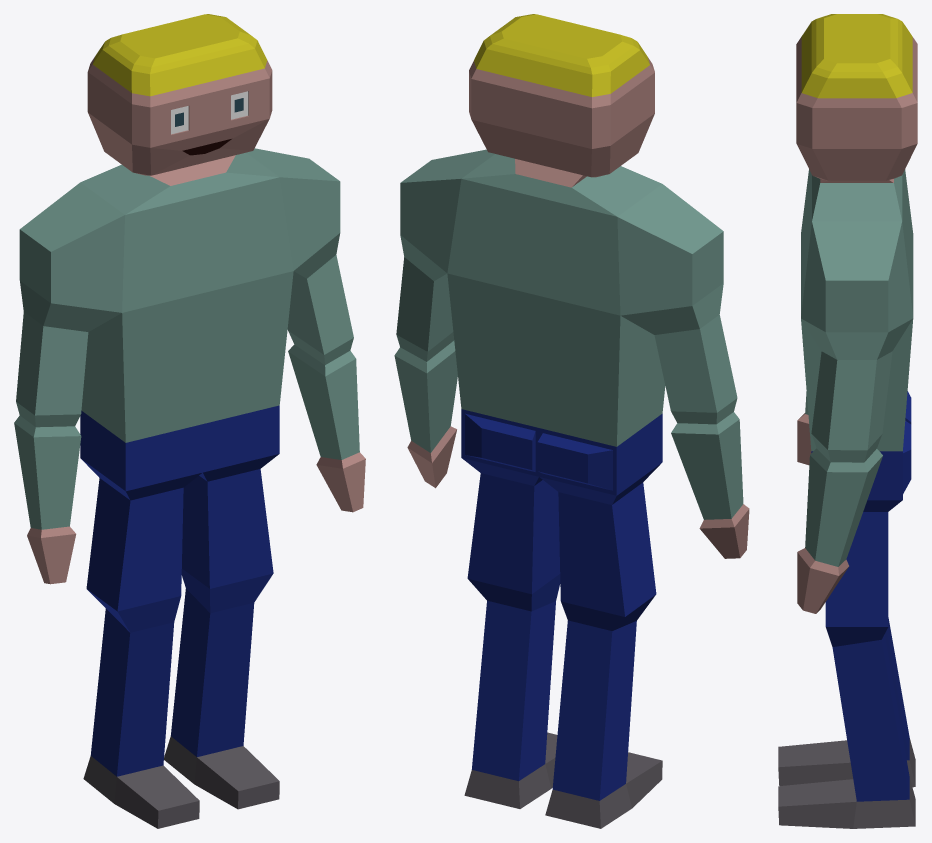
File: Bystander4.fbx
3 renders of one model, left to right at view 1: azimuth 30°, elevation 25°; view 2: azimuth 150°, elevation 25°; view 3: azimuth 270°, elevation 25°, orthographic.
Parts seen in each view (by area): view 1: Cube; view 2: Cube; view 3: Cube.
Part boxes in pixels (x1,y1,x2,y2): Cube: [14, 14, 365, 828]; Cube: [394, 14, 749, 828]; Cube: [778, 14, 917, 828].
Bounding box in the file's own units: 406 × 895 × 149.
